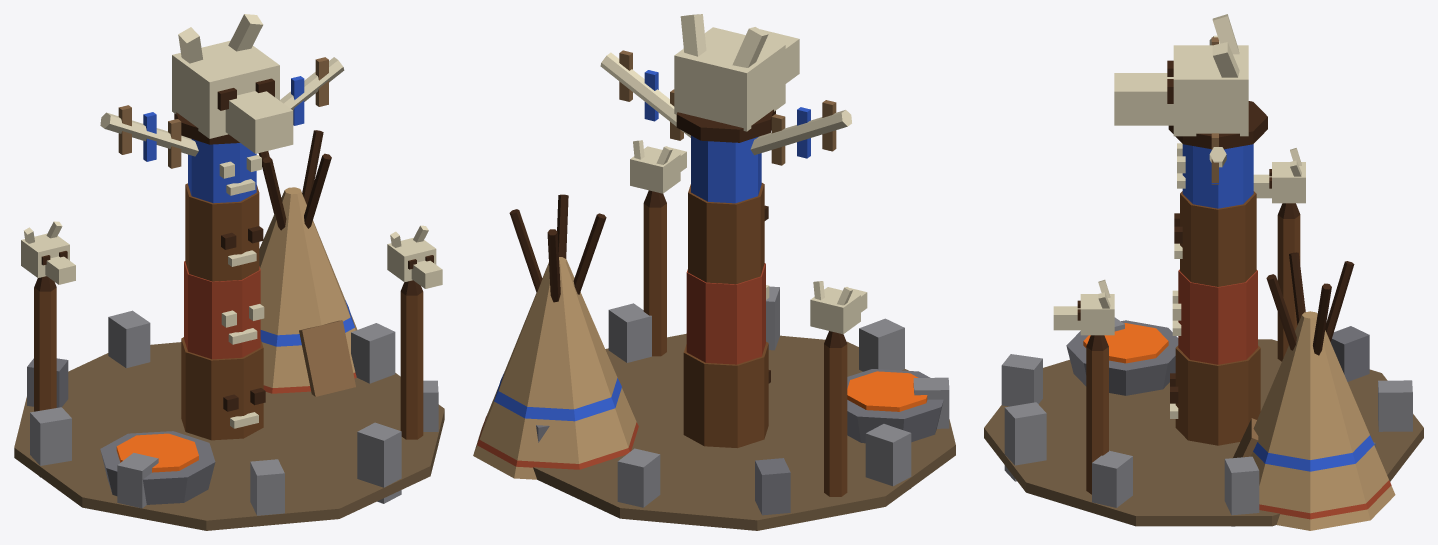
Rendered from Totem.glb.
3 renders of one model, left to right at view 1: azimuth 30°, elevation 25°; view 2: azimuth 150°, elevation 25°; view 3: azimuth 270°, elevation 25°, orthographic. The views are drawn at different scales.
Visible parts, largest first — view 1: Totem; view 2: Totem; view 3: Totem.
Part boxes in pixels (left/top/right/bottom): Totem: left=14, top=14, right=444, bottom=530; Totem: left=473, top=14, right=955, bottom=530; Totem: left=984, top=14, right=1423, bottom=530.
Size of the model in its own units: 2.93 by 3.12 by 3.
